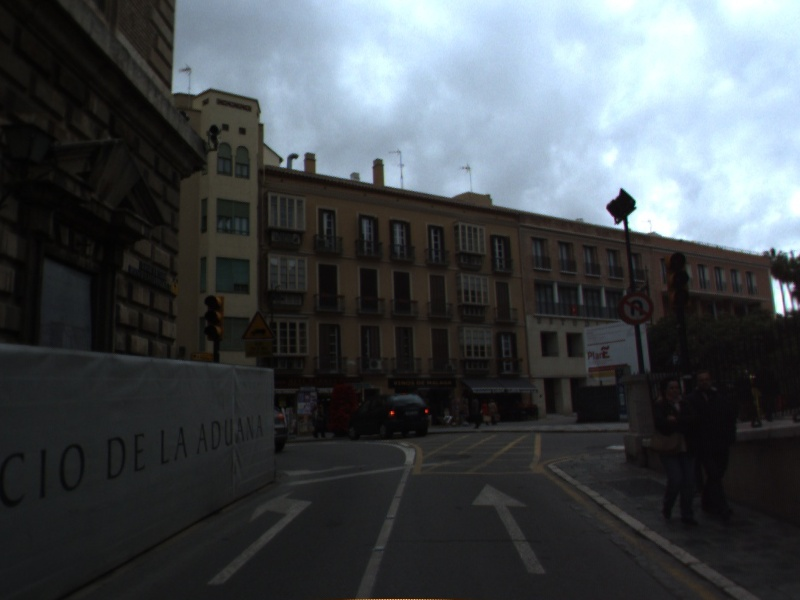LEFT: (205, 489, 315, 586)
STRAIGHT: (470, 482, 548, 576)
